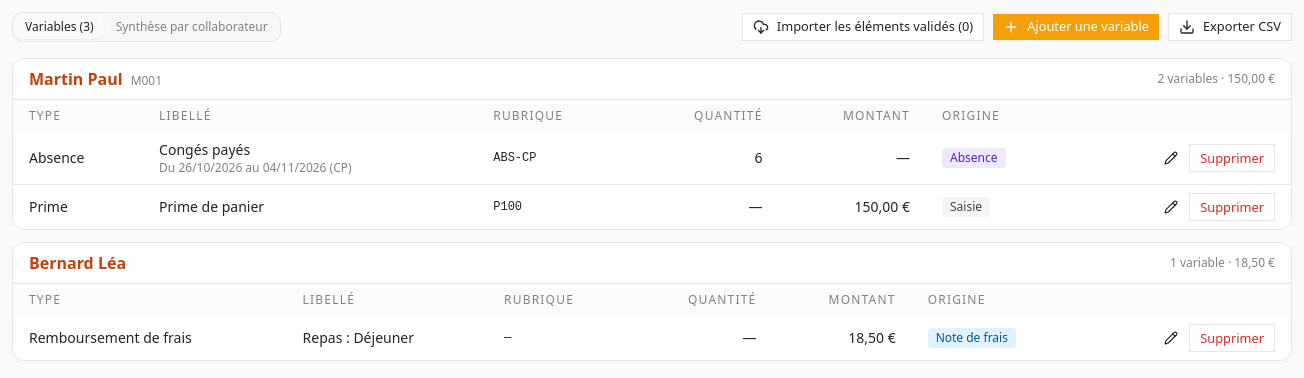
it: PreparationPaie › bascule sur la synthèse par collaborateur
The image size is (1304, 378).
Click the button "Synthèse par collaborateur": click(192, 27) [106,15,278,39]
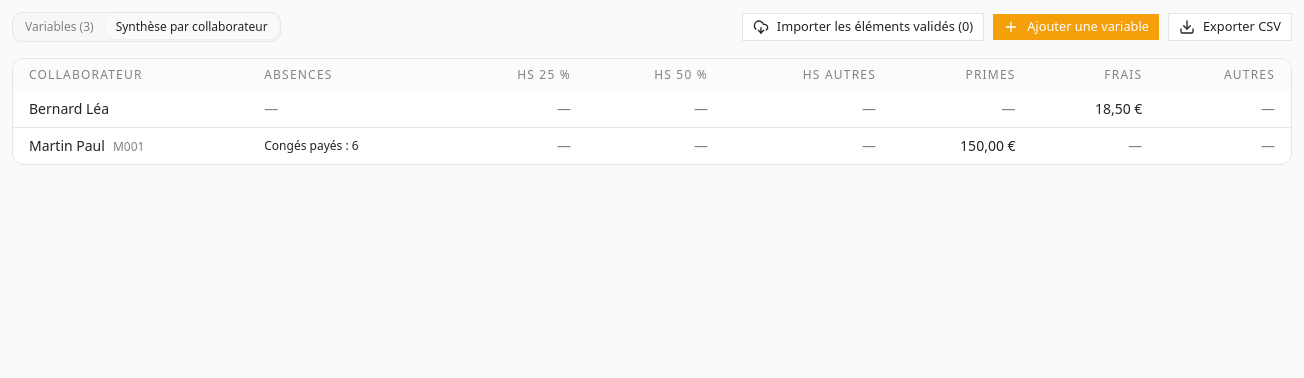
Expected: the text "150,00 €" is shown, [892,128,1032,164]
Result: the column heading "HS 25 %" is shown at [450,59,587,91]
